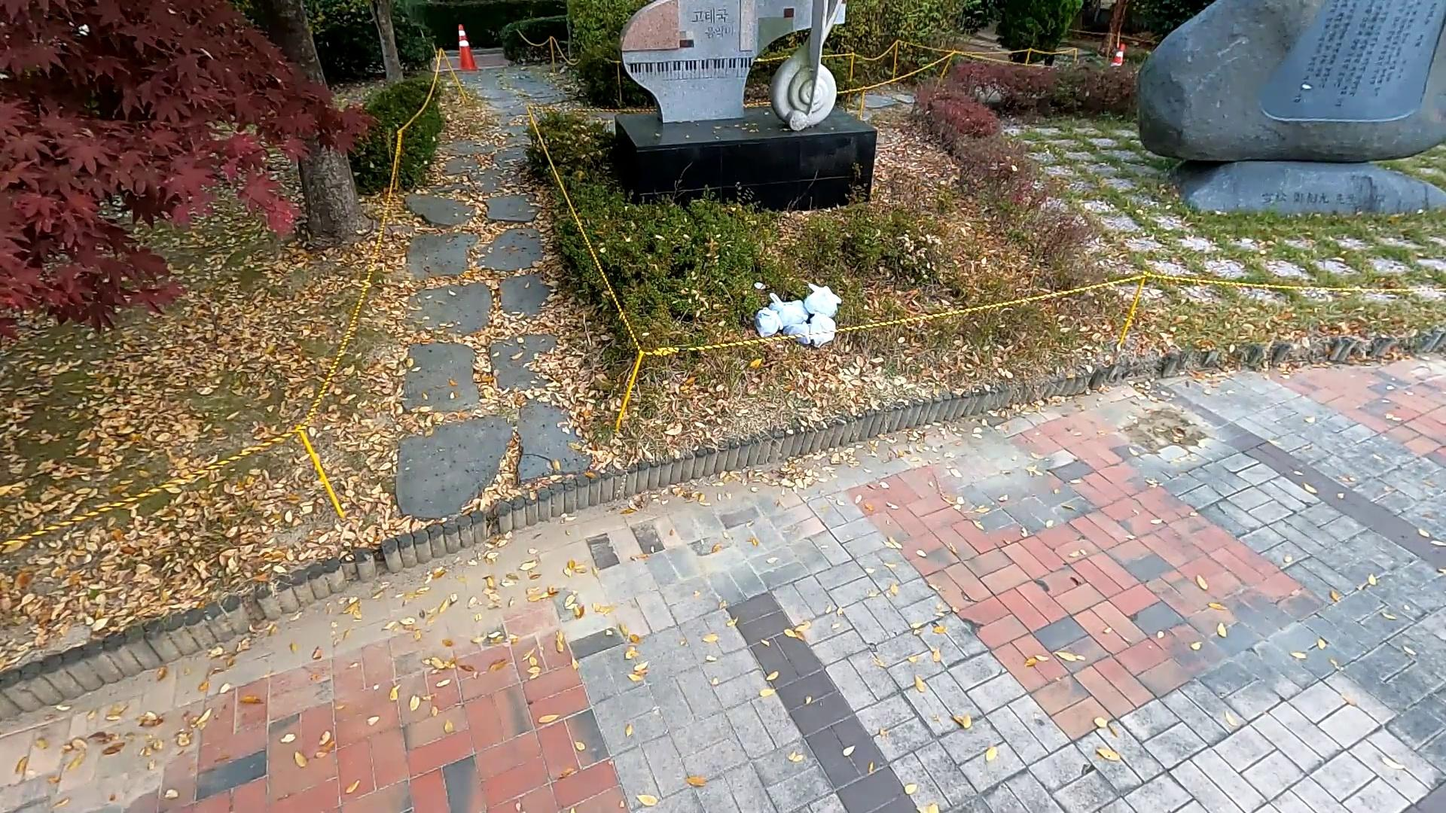trash: (766, 292, 809, 328), (804, 281, 843, 317), (805, 311, 837, 345), (753, 307, 783, 336), (783, 322, 811, 345)
